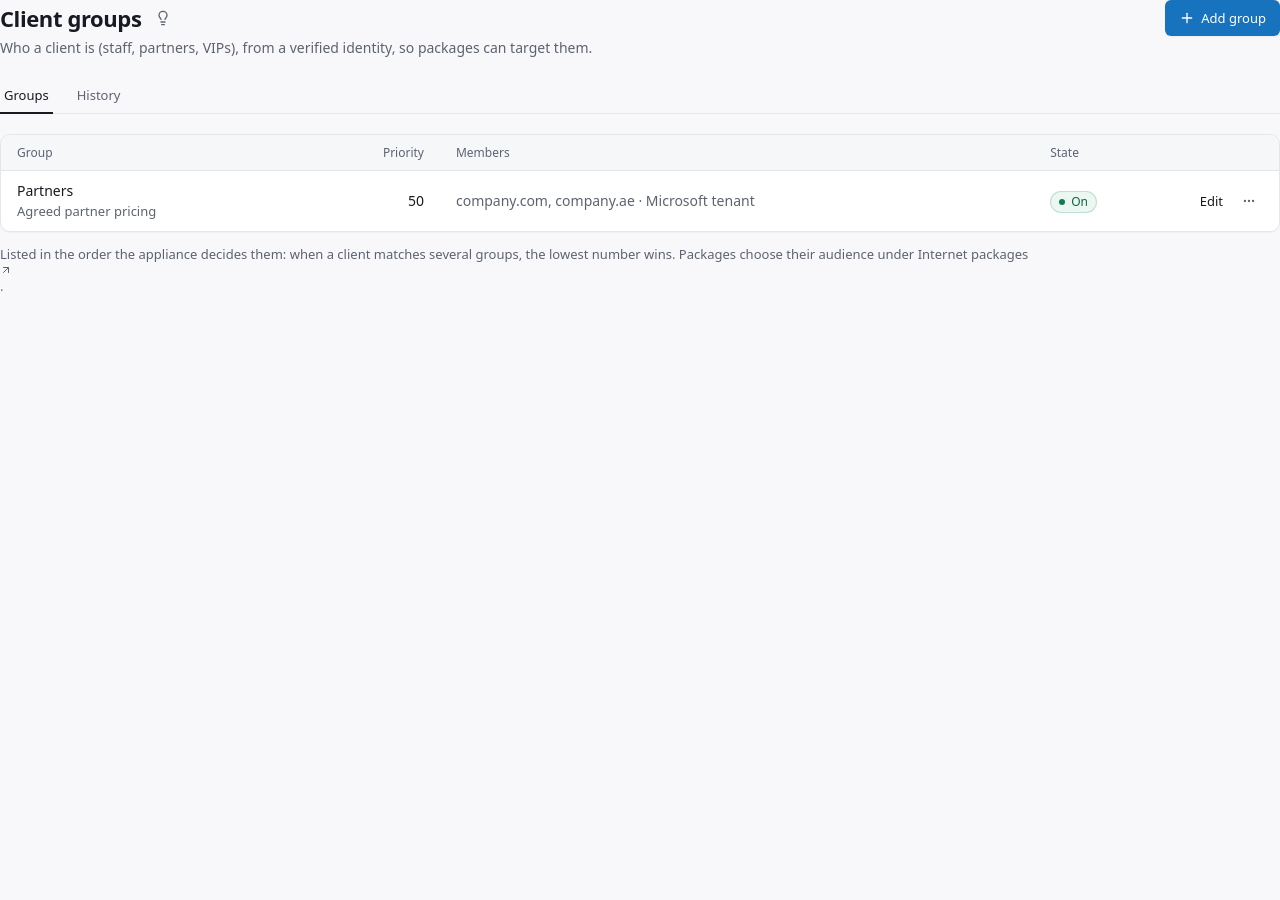
Test: deleting a group › deletes an unused group and re-reads the list
Expected: the text "Partners" is shown, x1=17 y1=181 x2=73 y2=200
Step 1. Press Enter in the button named "Actions for Partners", box x1=1235 y1=187 x2=1263 y2=215
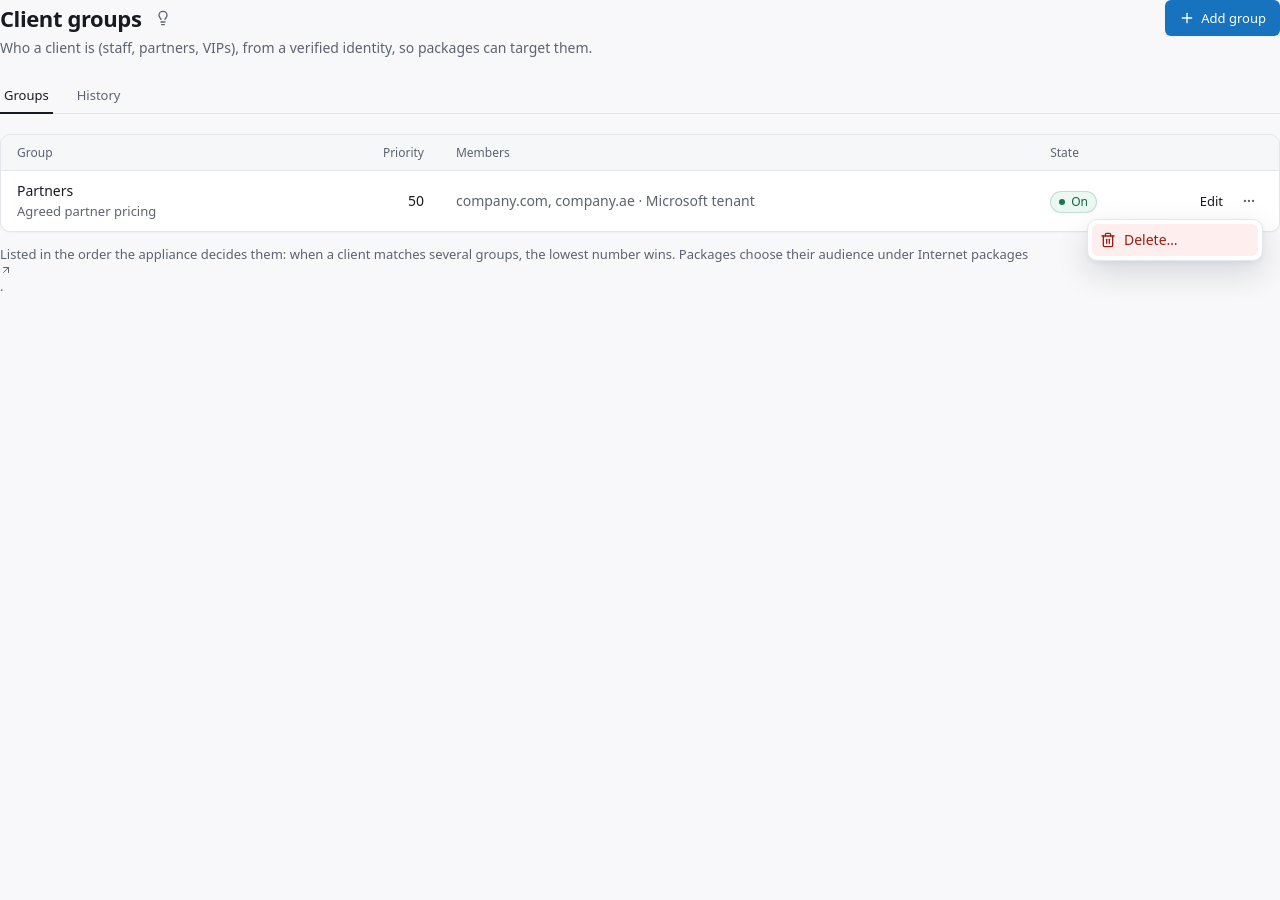
Step 2. Click the menu item "Delete…" → (1175,240), box x1=1092 y1=224 x2=1258 y2=256
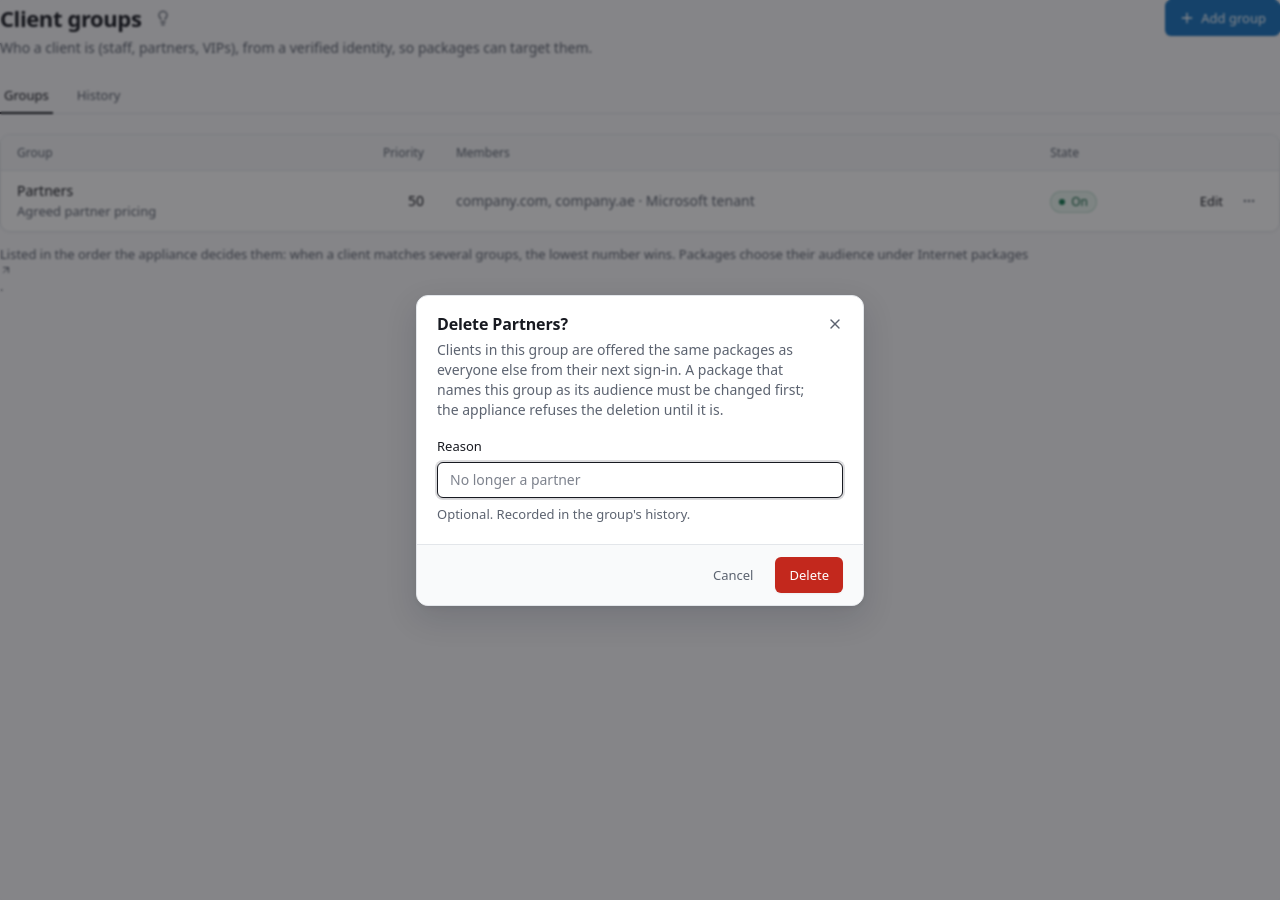
Step 3. Click the button "Delete" → (809,574), box x1=776 y1=556 x2=843 y2=592
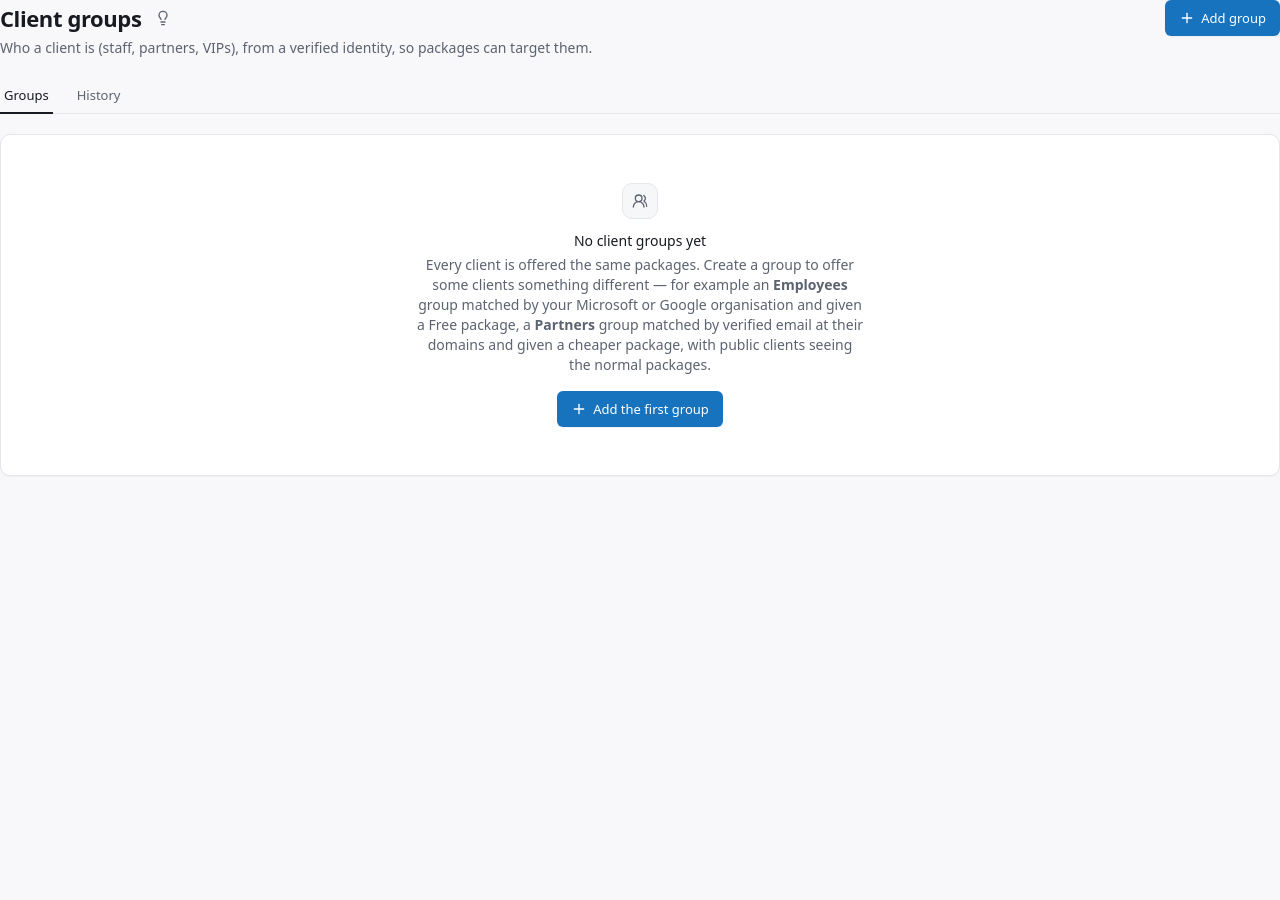
Now the text "No client groups yet" is shown, box x1=574 y1=231 x2=706 y2=251
